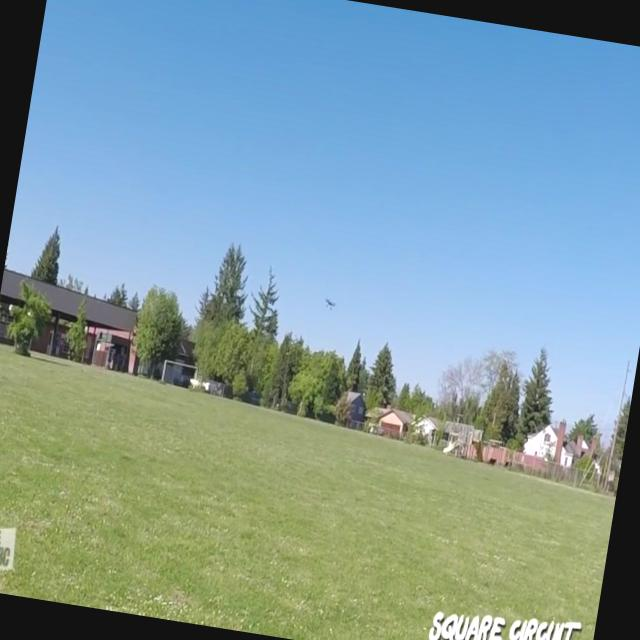drone: (322, 292, 338, 316)
